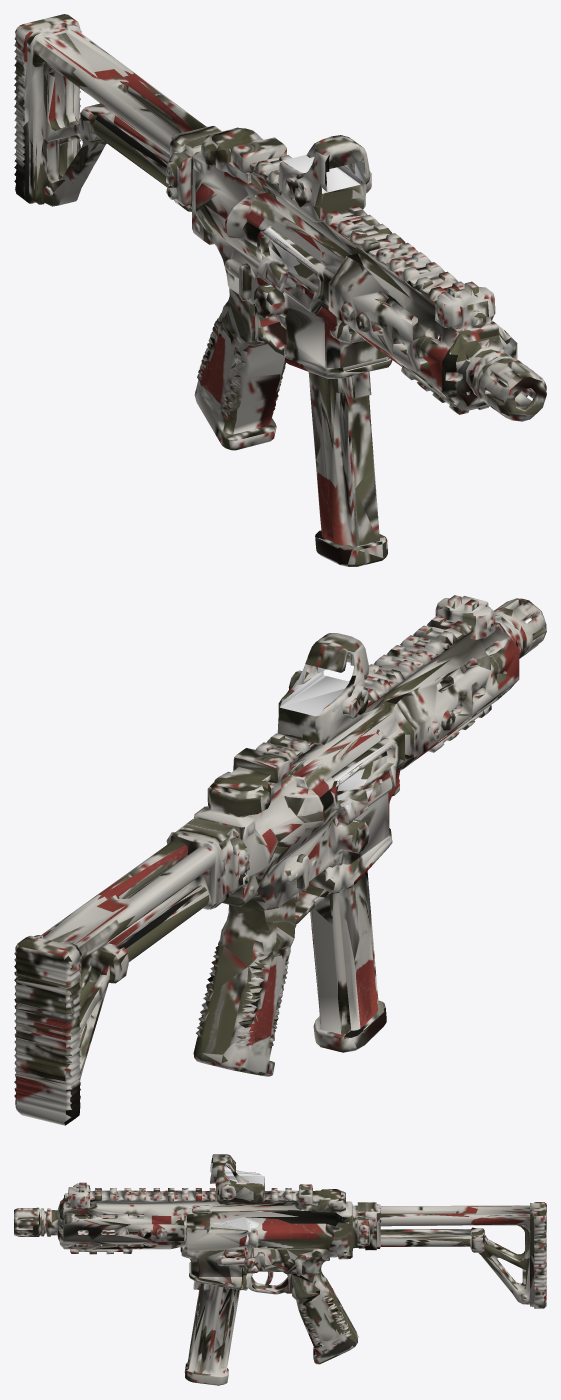
3 renders of one model, top to bottom at view 1: azimuth 30°, elevation 25°; view 2: azimuth 150°, elevation 25°; view 3: azimuth 270°, elevation 25°, orthographic. The views are drawn at different scales.
Visible parts, largest first — view 1: Body, Magazine, ChargingHandle; view 2: Body, Magazine, ChargingHandle; view 3: Body, Magazine, ChargingHandle.
Part boxes in pixels (box(x1,y1,x2,y2)): Body: box(14, 14, 546, 450); Magazine: box(284, 339, 392, 566); ChargingHandle: box(257, 231, 311, 293); Body: box(14, 595, 546, 1125); Magazine: box(301, 828, 392, 1052); ChargingHandle: box(337, 750, 381, 824); Body: box(14, 1154, 546, 1364); Magazine: box(184, 1263, 254, 1385); ChargingHandle: box(214, 1217, 258, 1256).
Size of the model in its own units: 0.1147 by 0.4278 by 0.923.
